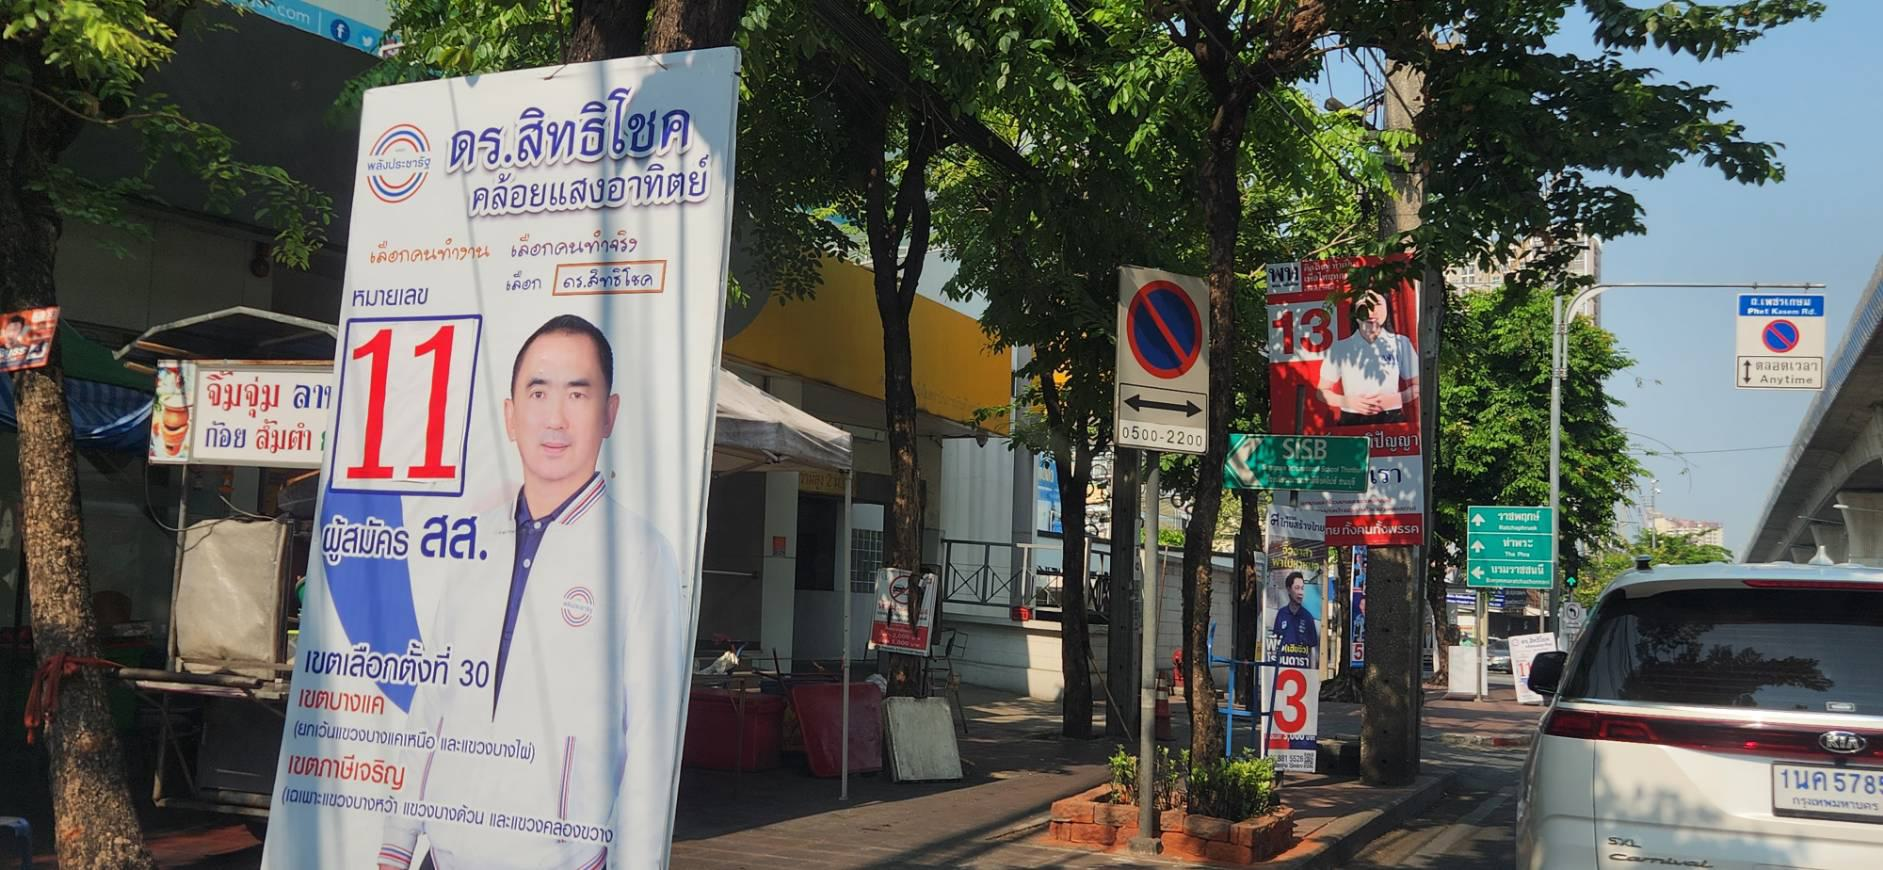Banner: (255, 53, 741, 870), (1266, 264, 1429, 548), (1259, 542, 1321, 785)
